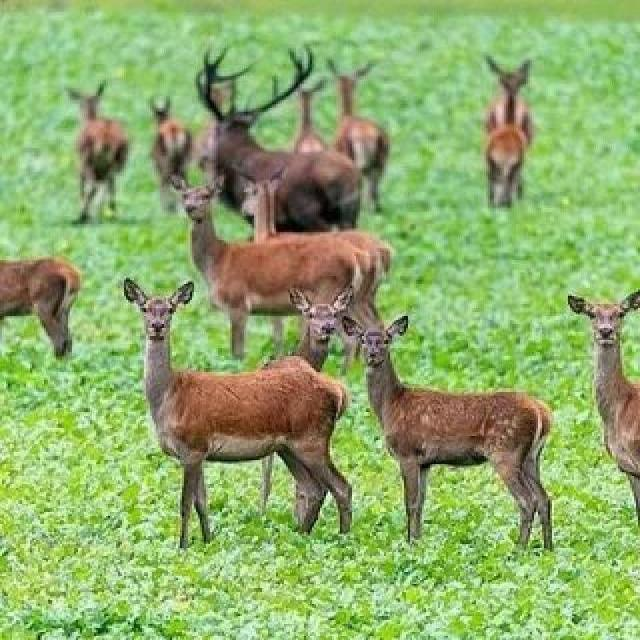deer: (321, 310, 566, 513), (174, 156, 385, 379), (153, 321, 372, 507), (439, 49, 598, 238), (0, 221, 147, 400), (246, 287, 390, 446), (551, 296, 640, 521), (188, 110, 342, 238), (48, 82, 164, 205), (317, 82, 413, 206), (135, 86, 224, 198), (286, 84, 354, 195)
